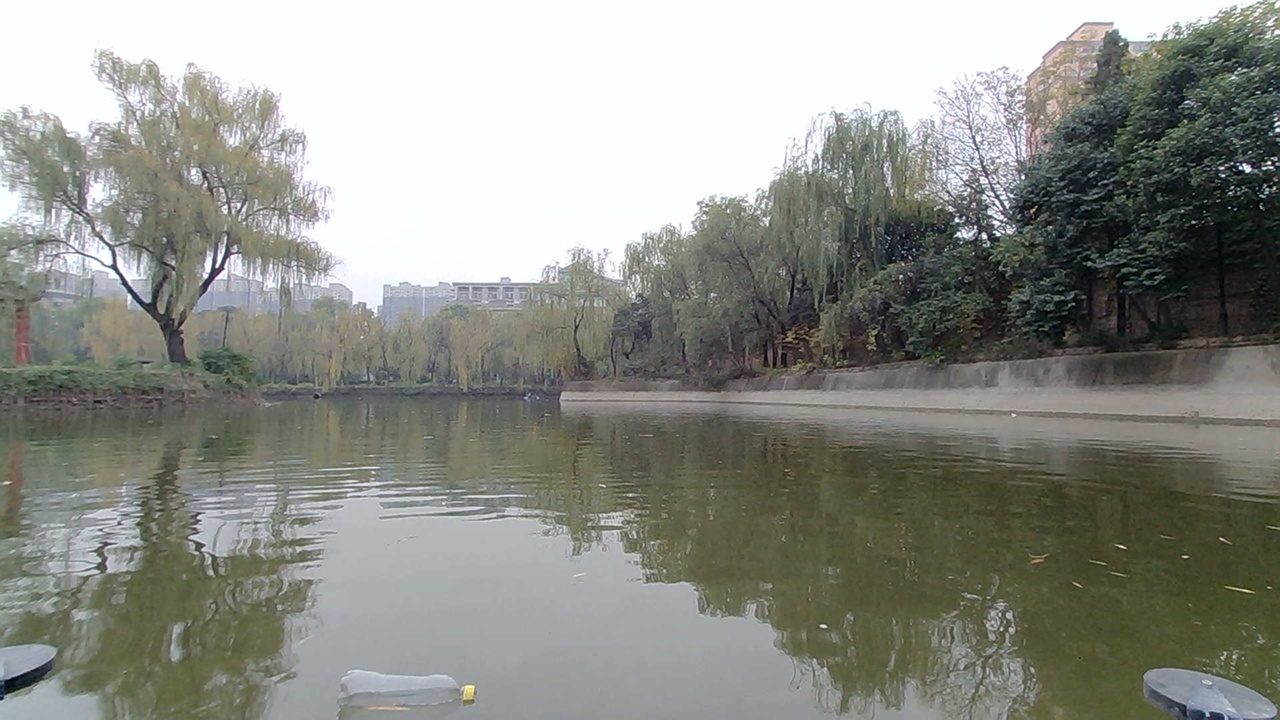bottle: (334, 652, 501, 719)
